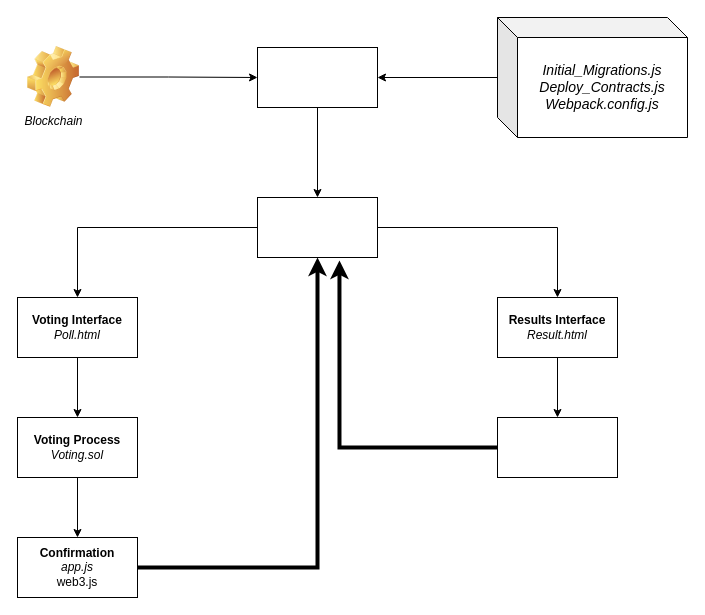
This 705x615 diagram has some shape labels left out. The centre of each missing label's shape, as x and y in pixels:
Deploy app build Migrations Build Truffle.js: (x=317, y=77)
SCT Election Interface Index.html: (x=317, y=227)
Total Votes Resultconfirmation.html: (x=557, y=447)
